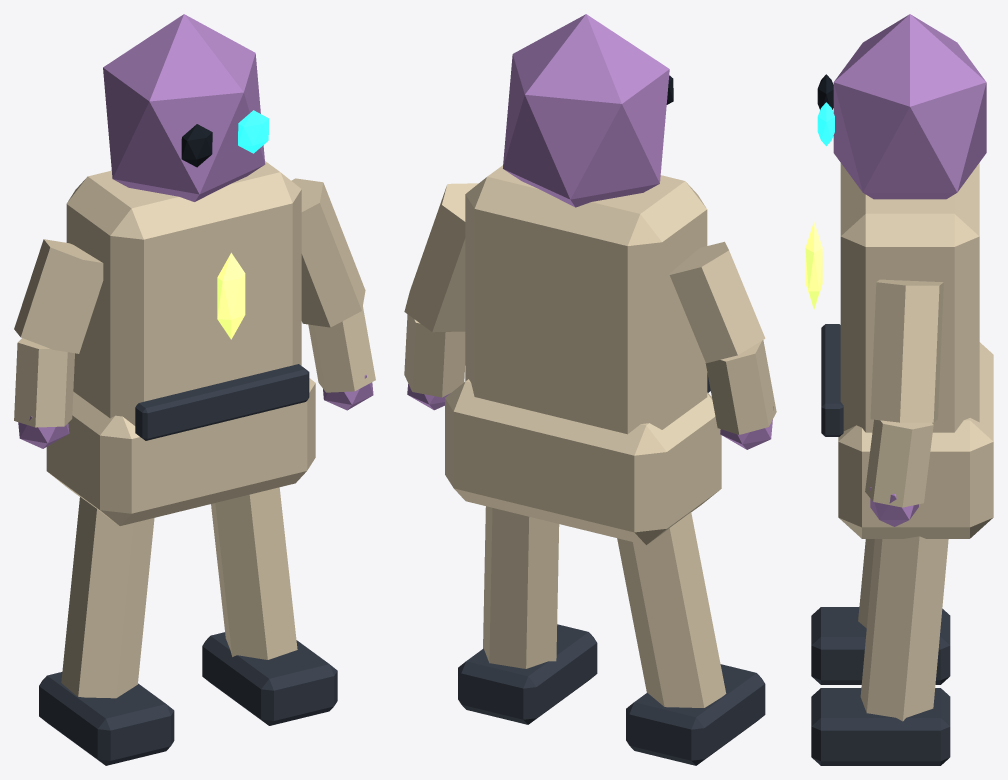
Rendered from npcs_002_seed100.glb.
3 renders of one model, left to right at view 1: azimuth 30°, elevation 25°; view 2: azimuth 150°, elevation 25°; view 3: azimuth 270°, elevation 25°, orthographic. The views are drawn at different scales.
Parts seen in each view (by area): view 1: npcs_002_seed100; view 2: npcs_002_seed100; view 3: npcs_002_seed100.
Part boxes in pixels (box(x1,y1,x2,y2)): npcs_002_seed100: box(14, 14, 375, 765); npcs_002_seed100: box(404, 14, 776, 765); npcs_002_seed100: box(805, 14, 993, 765).
Size of the model in its own units: 1.07 by 1.99 by 0.4829.
